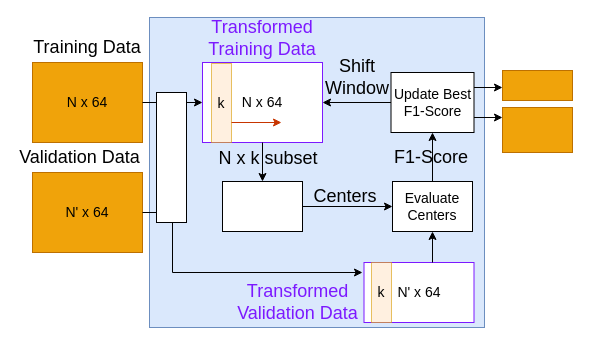
This 590x345 diagram has some shape labels left out. The shapes that lost their labels are listed below. From the top down, each one's centre as x and y in pixels, then its label:
At point 537,85: "Best F1-Score".
At point 537,129: "Best Coefficients (k x 1)".
At point 171,157: "WHT".
At point 262,206: "K-Means".
